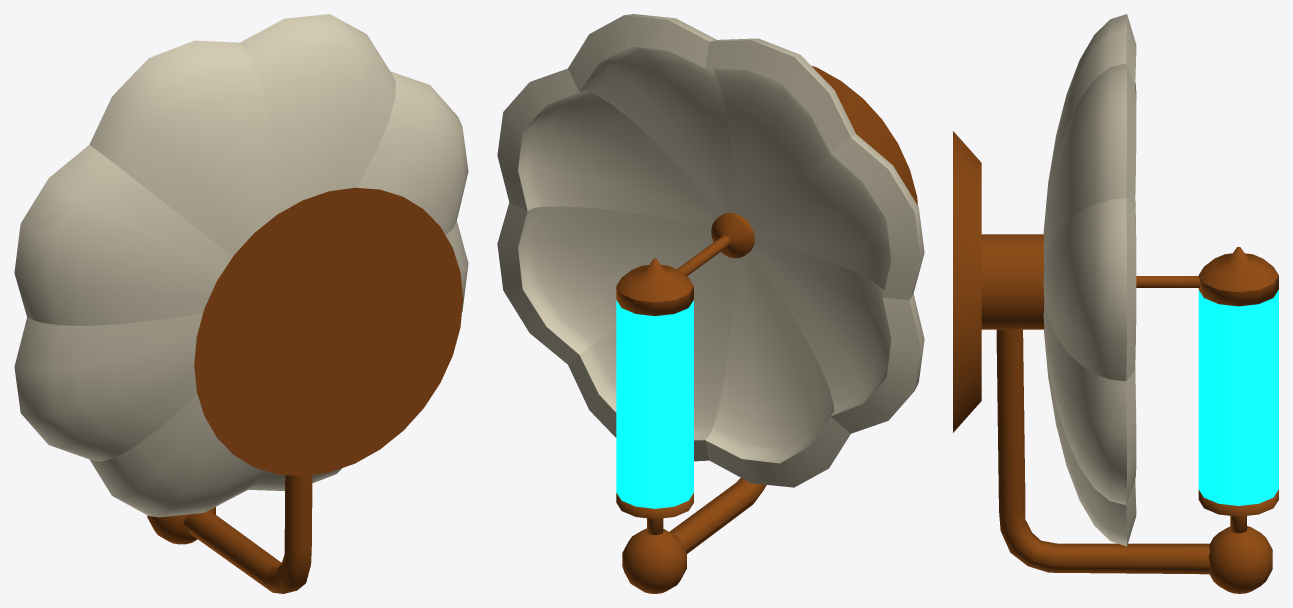
Rendered from LaserReceiver.fbx.
3 views of the same model, side by side, from view 1: azimuth 30°, elevation 25°; view 2: azimuth 150°, elevation 25°; view 3: azimuth 270°, elevation 25° (orthographic). The views are drawn at different scales.
Visible parts, largest first — view 1: Laser_Receiver; view 2: Laser_Receiver; view 3: Laser_Receiver.
Boxes of the visible parts, box(x1,y1,x2,y2) form: Laser_Receiver: box(14, 14, 468, 593); Laser_Receiver: box(497, 14, 924, 593); Laser_Receiver: box(953, 14, 1278, 593).
Size of what is drawn, in the model's own units: 289 by 340 by 186.
